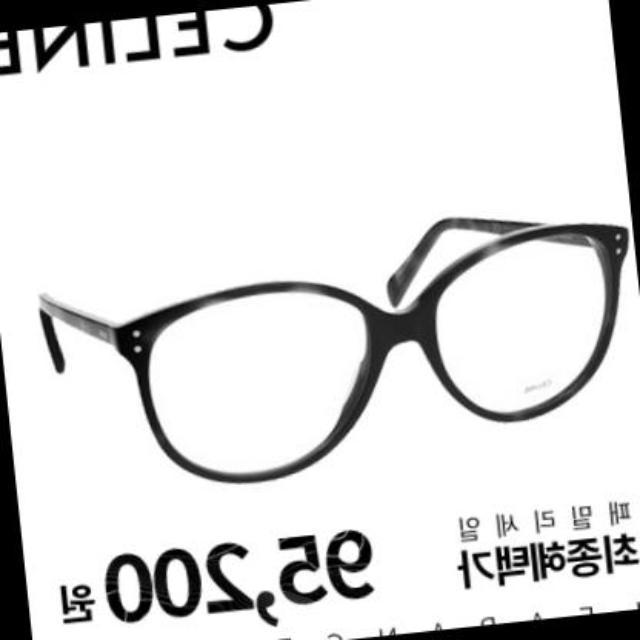glasses: (39, 213, 634, 480)
